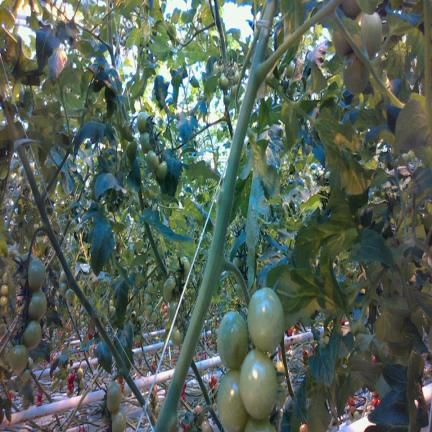6kp_peduncle: (200, 220, 251, 308), (27, 209, 56, 262), (112, 351, 132, 386)
6kp_petiole: (239, 28, 292, 124), (31, 178, 55, 218), (144, 251, 167, 284), (210, 105, 233, 131)
MainStem: (154, 1, 279, 432), (18, 146, 146, 408), (192, 359, 223, 432), (145, 223, 168, 279), (281, 332, 295, 398)
tomato: (239, 349, 277, 419), (247, 287, 284, 350), (217, 370, 248, 431), (217, 311, 247, 369), (353, 12, 382, 58), (343, 53, 369, 94), (28, 290, 47, 320), (9, 345, 28, 374), (332, 30, 352, 57), (28, 259, 45, 290), (23, 320, 41, 348), (107, 381, 122, 412), (244, 417, 276, 431), (341, 0, 360, 18), (112, 408, 126, 431), (163, 278, 176, 302), (146, 150, 159, 171), (171, 326, 184, 346), (155, 161, 167, 181), (180, 256, 190, 278), (167, 301, 177, 322), (137, 112, 147, 132), (141, 133, 151, 152), (219, 74, 229, 91), (286, 60, 295, 77), (65, 289, 75, 302), (201, 420, 212, 431), (145, 304, 153, 317), (60, 282, 67, 296), (0, 284, 8, 296), (0, 295, 8, 307), (76, 367, 83, 380), (150, 311, 157, 323), (212, 62, 219, 74), (60, 270, 67, 282), (144, 294, 151, 305), (2, 272, 8, 284), (147, 282, 153, 294), (79, 378, 85, 390), (0, 306, 7, 316), (224, 94, 230, 105), (231, 85, 236, 98), (234, 70, 239, 83), (300, 423, 308, 431), (348, 396, 354, 406), (353, 410, 359, 419), (348, 411, 352, 421), (350, 406, 355, 414)
